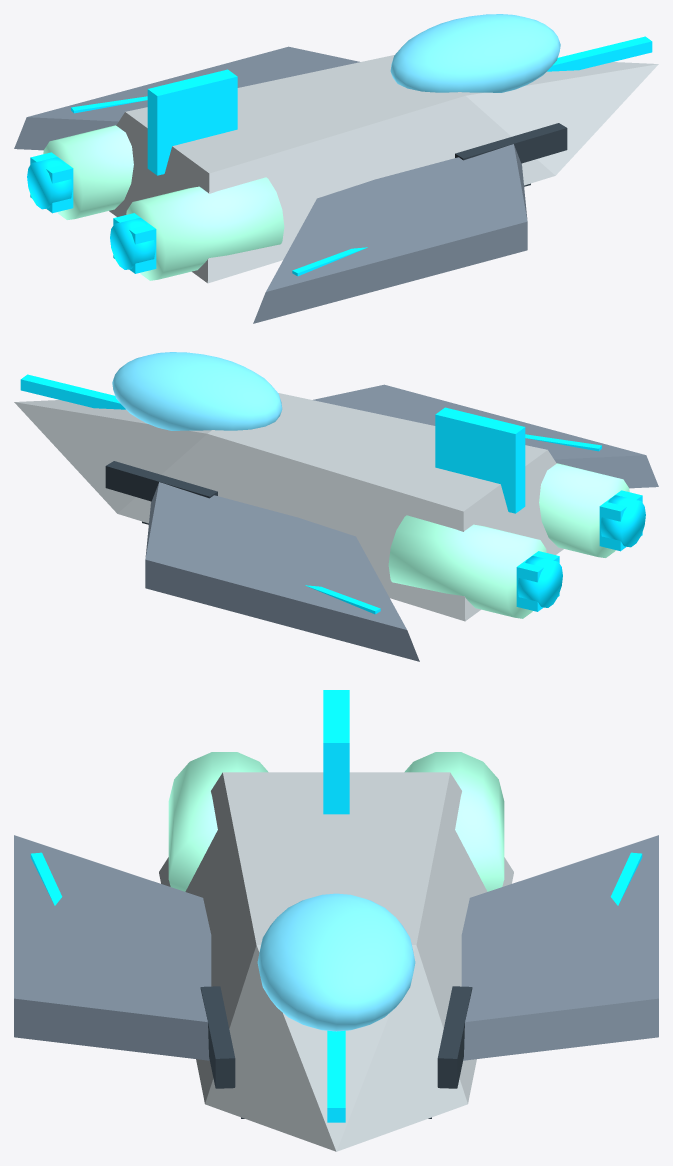
The model's file is prototype_scout.glb.
3 views of the same model, one above another, from view 1: azimuth 30°, elevation 25°; view 2: azimuth 150°, elevation 25°; view 3: azimuth 270°, elevation 25° (orthographic). The views are drawn at different scales.
Visible parts, largest first — view 1: HullWedge, RightSweptWing, Canopy, RightEngine, LeftSweptWing, TailFin, LeftEngine, RightIntake, NoseStripe, LeftEngineCore, RightEngineCore, LeftTrailEmitter (+2 smaller); view 2: HullWedge, LeftSweptWing, Canopy, LeftEngine, RightSweptWing, TailFin, RightEngine, LeftIntake, NoseStripe, RightEngineCore, LeftEngineCore, RightTrailEmitter (+2 smaller); view 3: HullWedge, LeftSweptWing, RightSweptWing, Canopy, LeftEngine, RightEngine, TailFin, LeftIntake, RightIntake, NoseStripe.
Part boxes in pixels (x1,y1,x2,y2): HullWedge: (109, 55, 658, 283); RightSweptWing: (253, 144, 527, 323); Canopy: (390, 14, 560, 92); RightEngine: (126, 177, 284, 280); LeftSweptWing: (14, 46, 359, 150); TailFin: (147, 69, 237, 175); LeftEngine: (43, 125, 133, 219); RightIntake: (455, 123, 567, 163); NoseStripe: (547, 36, 652, 71); LeftEngineCore: (27, 157, 72, 209); RightEngineCore: (110, 218, 155, 269); LeftTrailEmitter: (30, 152, 73, 213); HullWedge: (14, 393, 563, 621); LeftSweptWing: (145, 482, 419, 661); Canopy: (112, 352, 282, 430); LeftEngine: (388, 515, 546, 618); RightSweptWing: (313, 384, 658, 488); TailFin: (435, 407, 525, 513); RightEngine: (539, 463, 629, 557); LeftIntake: (105, 461, 217, 501); NoseStripe: (20, 374, 125, 409); RightEngineCore: (600, 495, 645, 547); LeftEngineCore: (517, 556, 562, 607); RightTrailEmitter: (599, 490, 642, 551); HullWedge: (159, 772, 513, 1151); LeftSweptWing: (461, 835, 658, 1060); RightSweptWing: (14, 835, 211, 1060); Canopy: (257, 893, 415, 1031); LeftEngine: (404, 752, 504, 891); RightEngine: (168, 752, 268, 891); TailFin: (323, 690, 349, 814); LeftIntake: (437, 986, 472, 1088); RightIntake: (200, 986, 235, 1088); NoseStripe: (327, 1030, 345, 1122).
Size of what is drawn, in the model's own units: 2.74 by 0.815 by 1.96.
